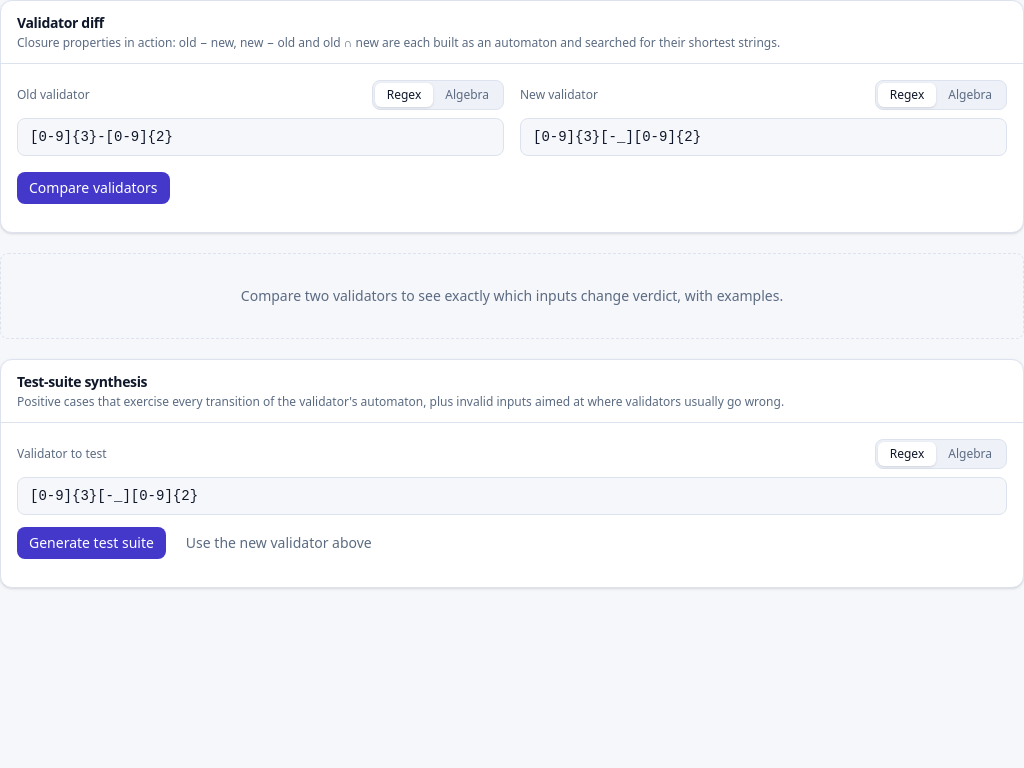
Validator Lab › explains how a validator change alters behaviour, with witnesses
Step 1. Click the button "Compare validators" → (93, 188), box left=17, top=172, right=170, bottom=204
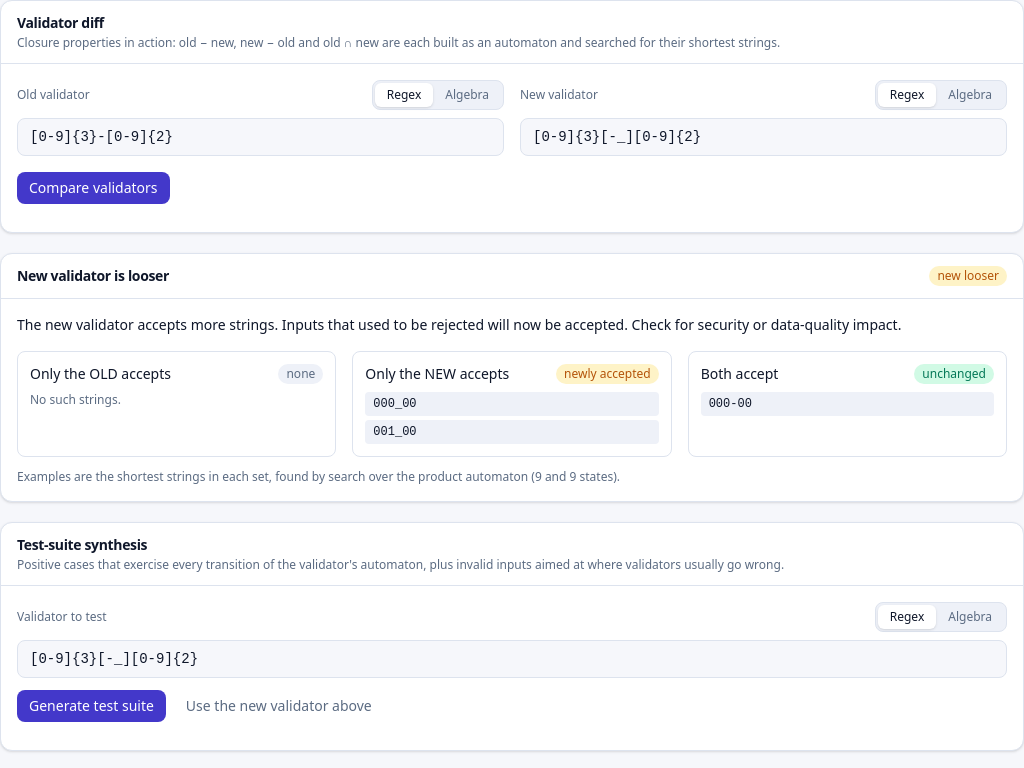
Check: the heading "New validator is looser" is shown, box left=17, top=266, right=169, bottom=286
Check: the list item "000_00" is shown, box left=365, top=392, right=659, bottom=416
Check: the text "newly accepted" is shown, box left=556, top=364, right=659, bottom=384
